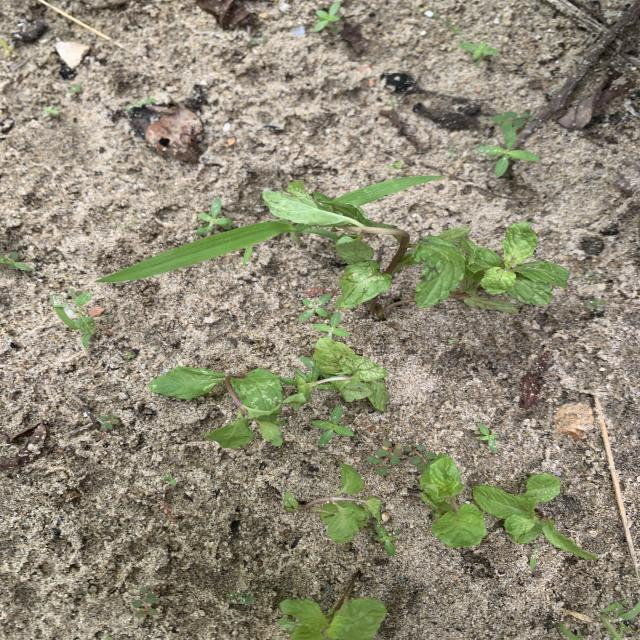crop: (263, 184, 568, 319), (151, 367, 286, 447), (474, 473, 595, 559), (284, 462, 381, 542), (284, 337, 387, 410), (278, 576, 387, 639)
weed: (96, 222, 336, 282), (477, 116, 539, 177), (335, 176, 441, 207), (51, 290, 97, 346), (313, 406, 354, 444), (601, 600, 639, 639), (368, 441, 410, 474), (198, 198, 231, 235), (132, 587, 162, 617), (314, 312, 348, 338), (460, 42, 498, 65), (314, 1, 340, 31), (300, 294, 331, 319), (375, 524, 400, 555), (407, 446, 433, 467), (0, 253, 32, 270), (478, 424, 497, 451), (124, 98, 154, 110), (560, 623, 581, 639), (98, 414, 119, 429), (227, 592, 255, 603), (0, 39, 17, 55), (574, 271, 598, 282), (586, 299, 605, 310), (530, 544, 537, 568), (44, 107, 60, 116), (68, 85, 82, 94), (388, 161, 402, 169), (164, 475, 175, 485), (126, 352, 135, 359), (448, 339, 455, 343)
